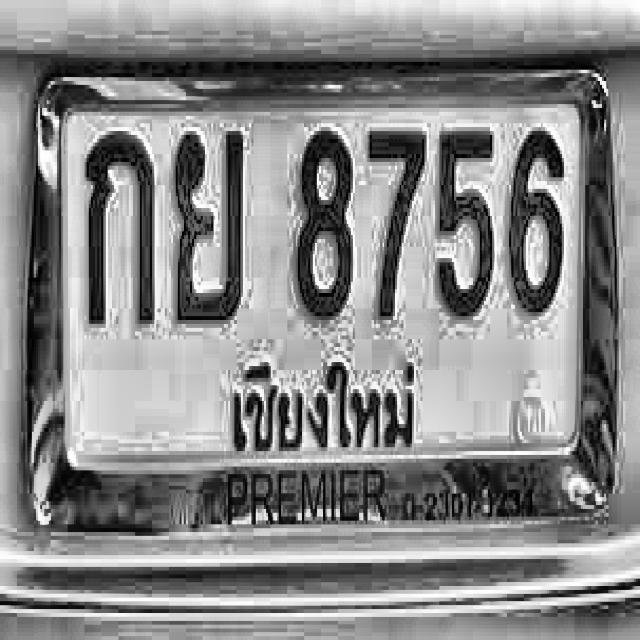license-plate: (25, 52, 620, 534)
